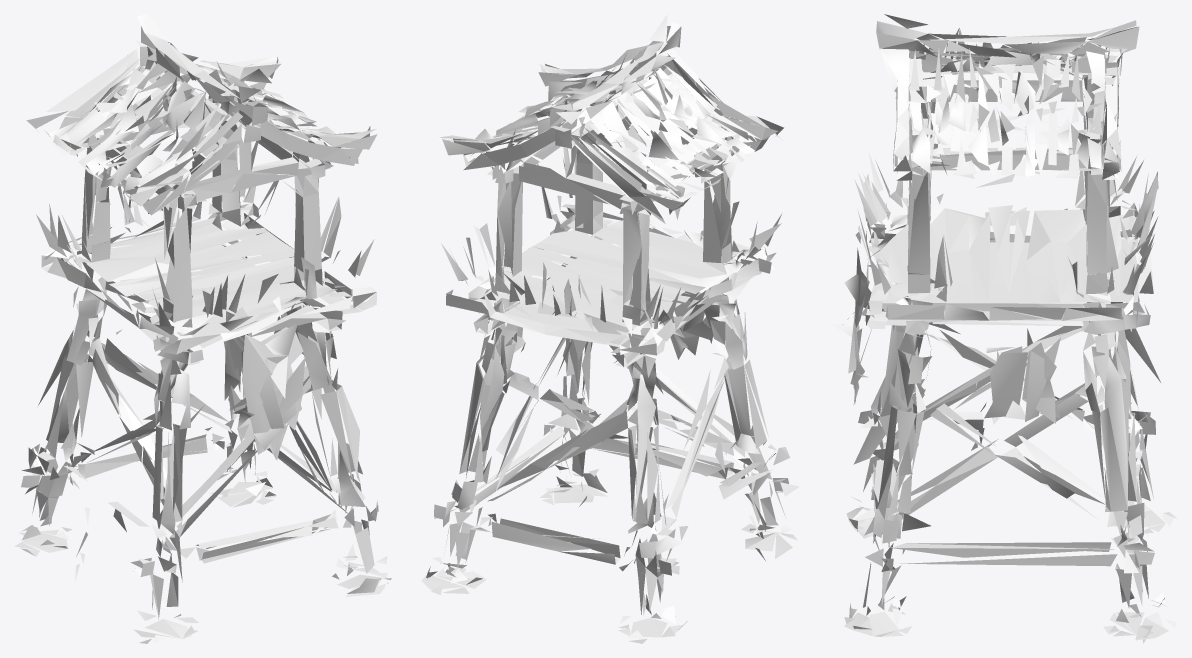
File: watch_tower_lod2.glb
3 renders of one model, left to right at view 1: azimuth 30°, elevation 25°; view 2: azimuth 150°, elevation 25°; view 3: azimuth 270°, elevation 25°, orthographic. The views are drawn at different scales.
Parts seen in each view (by area): view 1: watch_tower; view 2: watch_tower; view 3: watch_tower.
Part boxes in pixels (x1,y1,x2,y2): watch_tower: (14,14,392,643); watch_tower: (421,14,803,643); watch_tower: (832,14,1177,643).
Size of the model in its own units: 6.74 by 12.36 by 6.85.
Materials: 1 (1 with a texture image).
